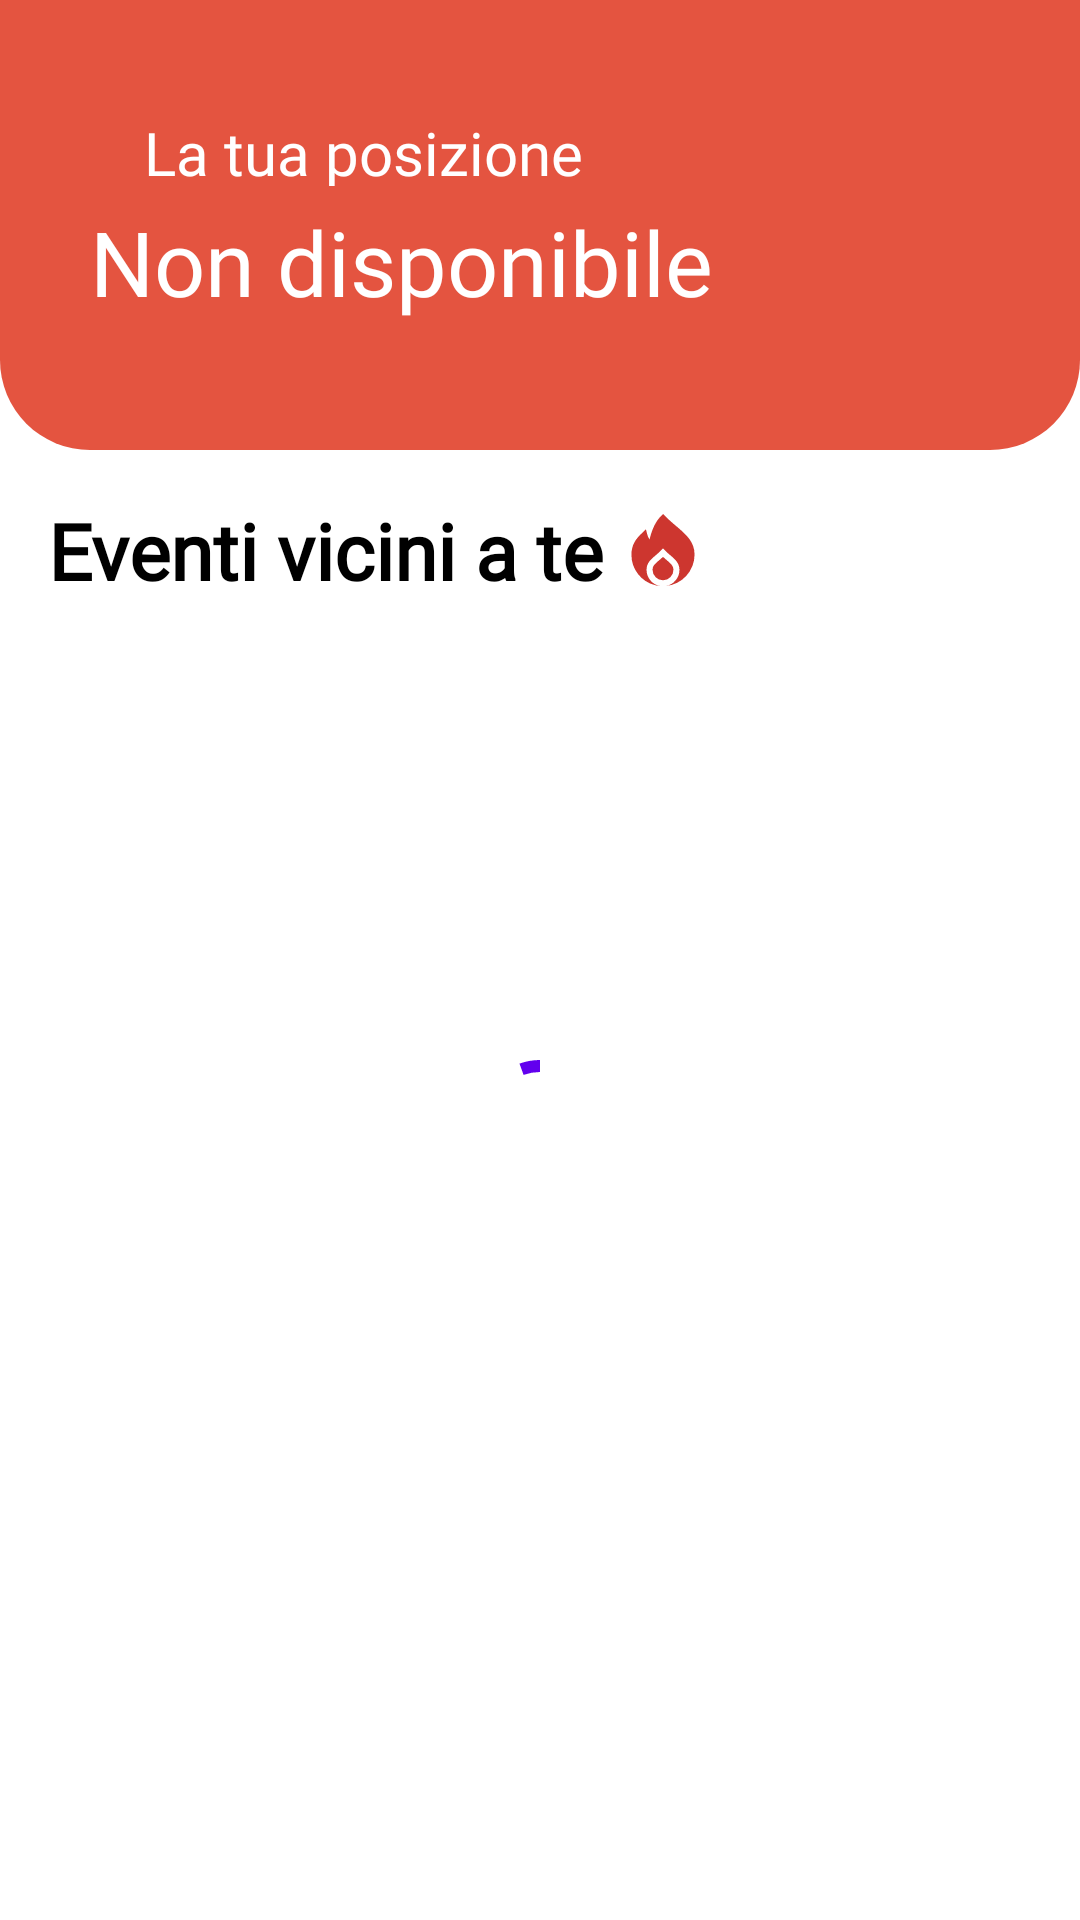

Icons on this 1080px×1920px Android screen, each with its box as BBox(x1, y1, x2, y2):
fuoco: BBox(631, 514, 695, 586)
